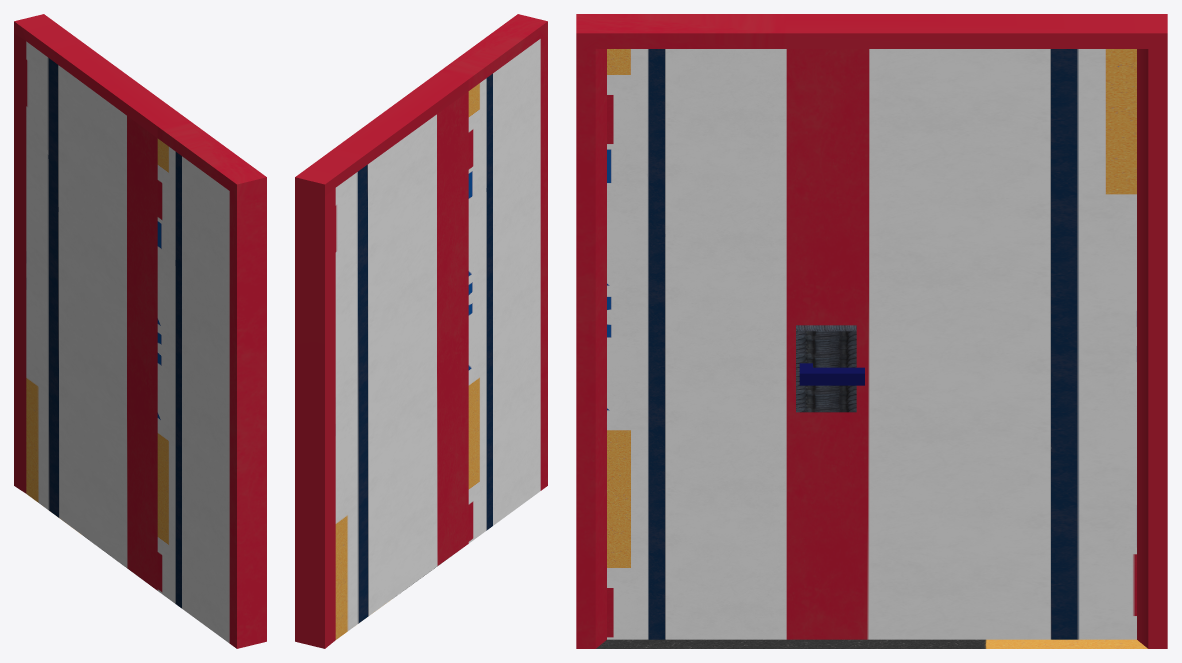
File: Door_Wall_Office.fbx
The picture shows the model from 3 angles, left to right: view 1: azimuth 30°, elevation 25°; view 2: azimuth 150°, elevation 25°; view 3: azimuth 270°, elevation 25°; orthographic projection. The views are drawn at different scales.
Parts seen in each view (by area): view 1: Wall_Door, Door; view 2: Wall_Door, Door; view 3: Door, Wall_Door, Door_Handle.
Part boxes in pixels (x1=…): Wall_Door: x1=14, y1=14, x2=266, y2=648; Door: x1=26, y1=41, x2=157, y2=590; Wall_Door: x1=295, y1=14, x2=547, y2=648; Door: x1=335, y1=91, x2=468, y2=639; Door: x1=786, y1=49, x2=1136, y2=639; Wall_Door: x1=576, y1=14, x2=1167, y2=648; Door_Handle: x1=796, y1=325, x2=864, y2=412.
Size of the model in its own units: 19.57 by 211 by 183.
